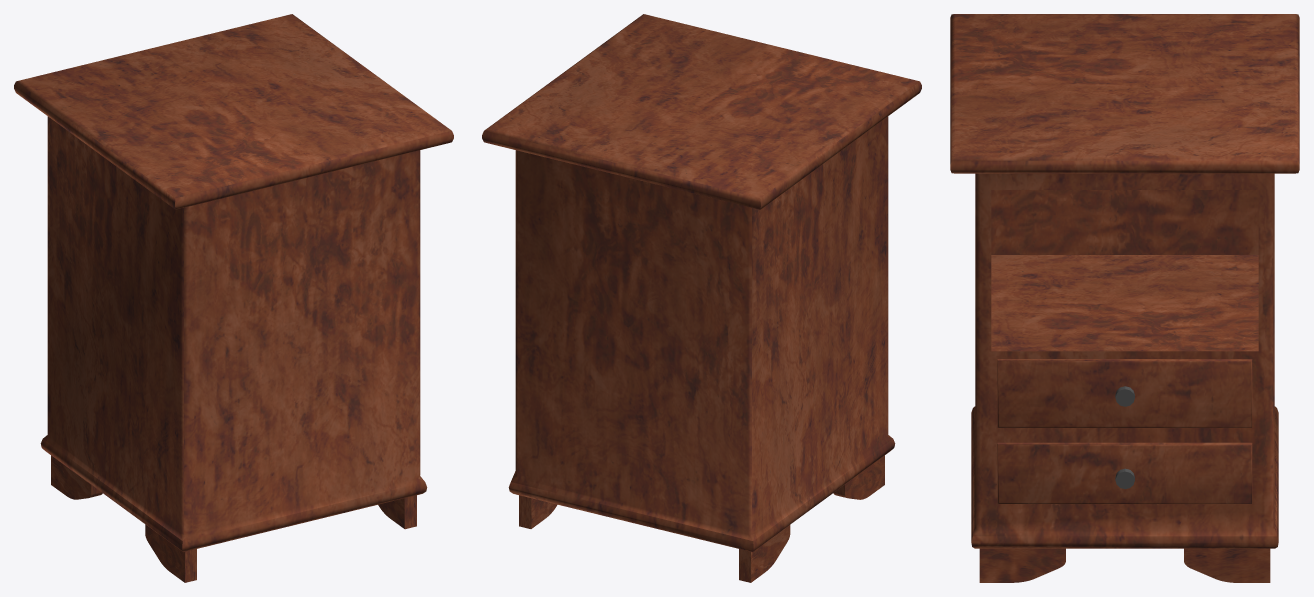
File: Szafeczka_cyk.fbx
The picture shows the model from 3 angles, left to right: view 1: azimuth 30°, elevation 25°; view 2: azimuth 150°, elevation 25°; view 3: azimuth 270°, elevation 25°; orthographic projection. The views are drawn at different scales.
Visible parts, largest first — view 1: Cube.001, nóżka_1.001, nóżka_1.003, nóżka_1; view 2: Cube.001, nóżka_1.003, nóżka_1.001, nóżka_1.002; view 3: Cube.001, nóżka_1.002, nóżka_1.
Boxes of the visible parts, x1=… form: Cube.001: x1=14, y1=14, x2=453, y2=551; nóżka_1.001: x1=145, y1=524, x2=196, y2=582; nóżka_1.003: x1=51, y1=455, x2=102, y2=499; nóżka_1: x1=378, y1=495, x2=416, y2=529; Cube.001: x1=482, y1=14, x2=921, y2=551; nóżka_1.003: x1=739, y1=525, x2=790, y2=582; nóżka_1.001: x1=833, y1=455, x2=884, y2=499; nóżka_1.002: x1=519, y1=495, x2=557, y2=528; Cube.001: x1=950, y1=14, x2=1299, y2=548; nóżka_1.002: x1=1184, y1=548, x2=1270, y2=582; nóżka_1: x1=979, y1=548, x2=1065, y2=582.
Bounding box in the file's own units: 386 × 531 × 386.
